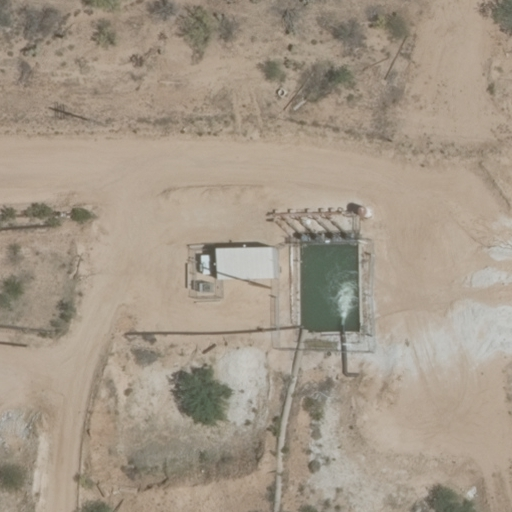DT: (78, 110, 110, 132)
